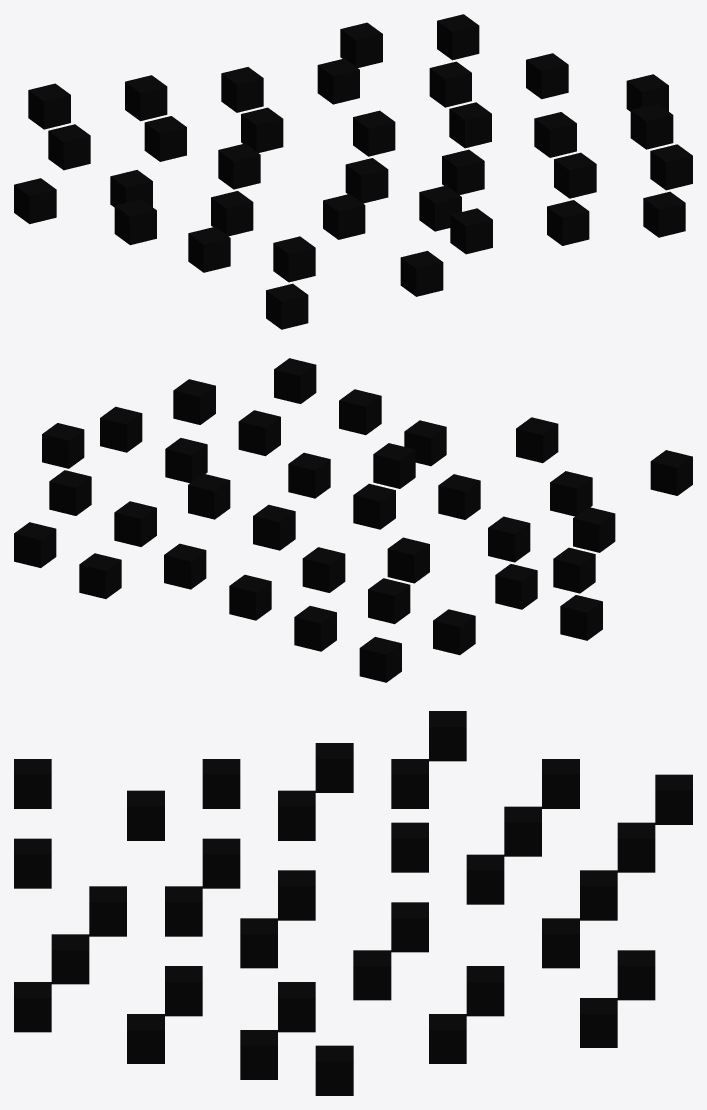
File: gwozdzie.obj
The picture shows the model from 3 angles, top to bottom: view 1: azimuth 30°, elevation 25°; view 2: azimuth 150°, elevation 25°; view 3: azimuth 270°, elevation 25°; orthographic projection. The views are drawn at different scales.
Size of the model in its own units: 2.2 by 0.1 by 1.8.
